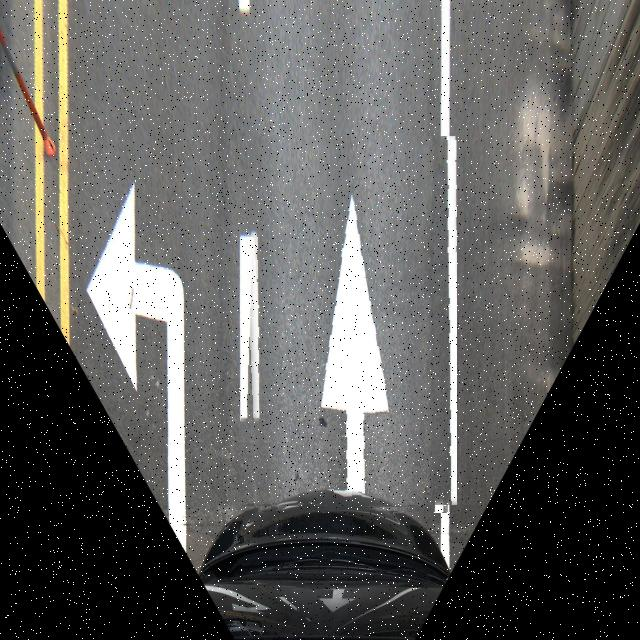forward: (241, 136, 457, 512)
